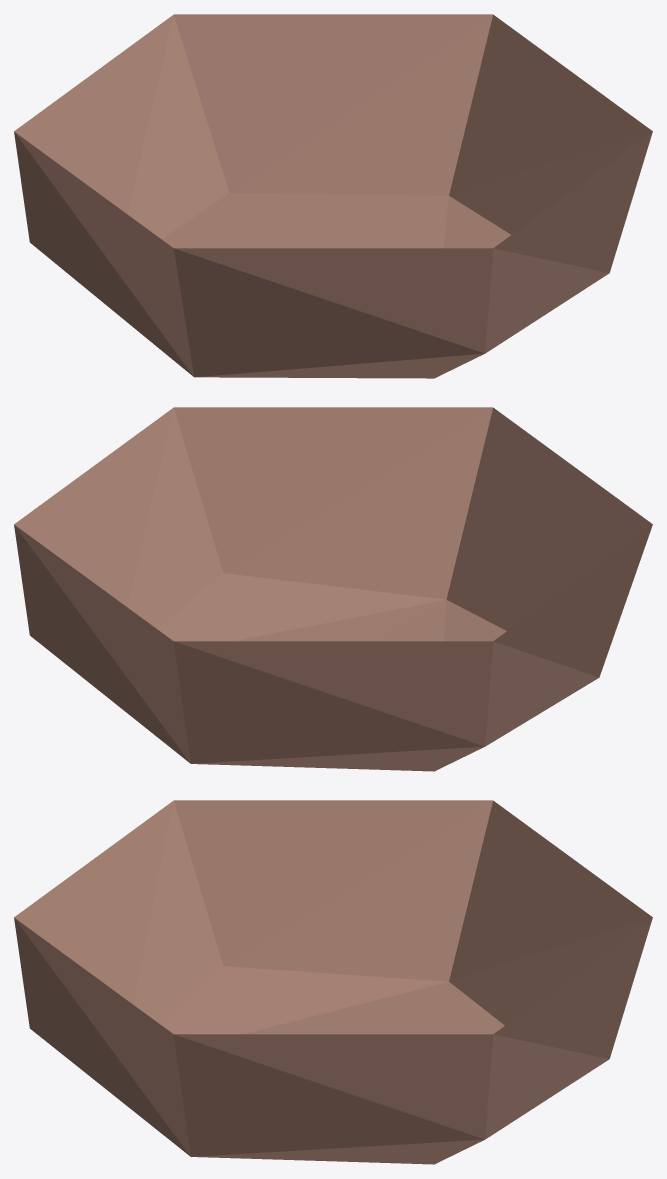
The model's file is Flat_Bowl_01.gltf.
3 views of the same model, one above another, from view 1: azimuth 30°, elevation 25°; view 2: azimuth 150°, elevation 25°; view 3: azimuth 270°, elevation 25° (orthographic).
Parts seen in each view (by area): view 1: Bowl_01; view 2: Bowl_01; view 3: Bowl_01.
Boxes of the visible parts, x1,y1,x2,y2 form: Bowl_01: [14, 14, 652, 378]; Bowl_01: [14, 407, 652, 771]; Bowl_01: [14, 800, 652, 1164].
Size of the model in its own units: 1.01 by 0.3472 by 1.16.
